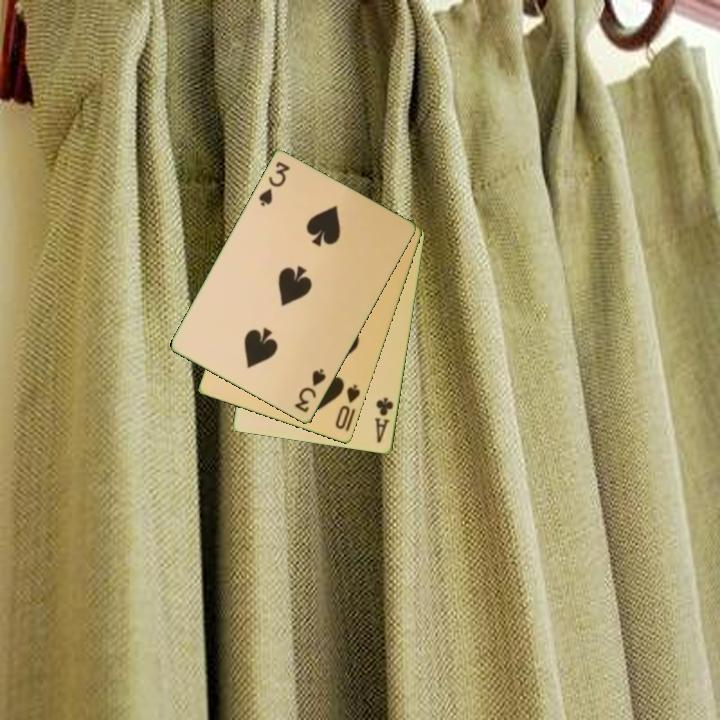10s: (332, 381, 363, 432)
3s: (255, 158, 293, 210), (291, 365, 329, 416)
Ac: (372, 394, 396, 446)
